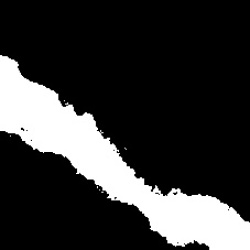crack: (2, 55, 247, 247)
